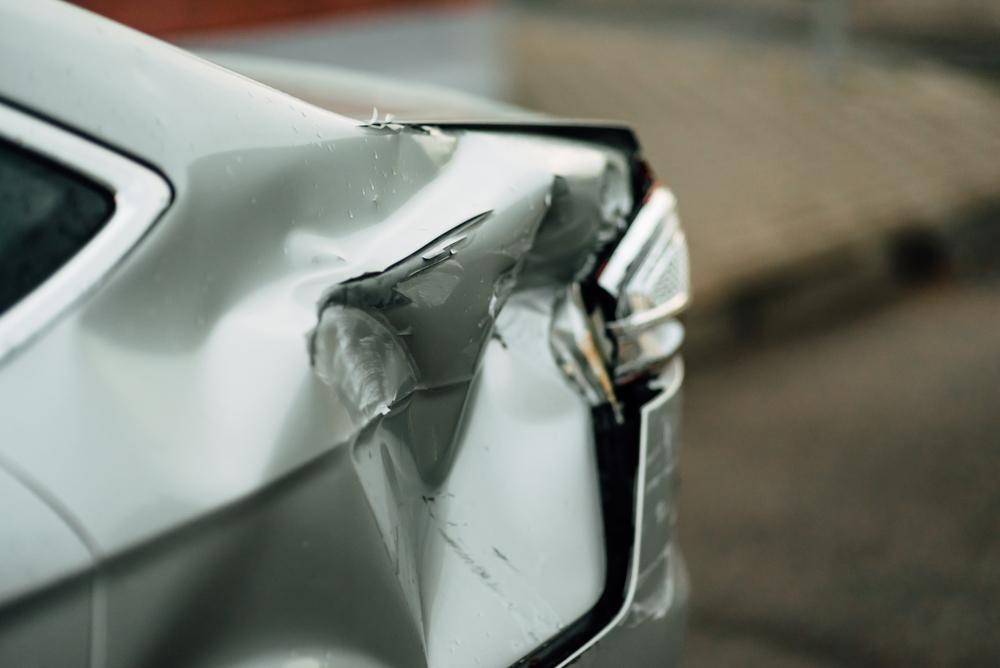dent: (87, 132, 624, 667)
